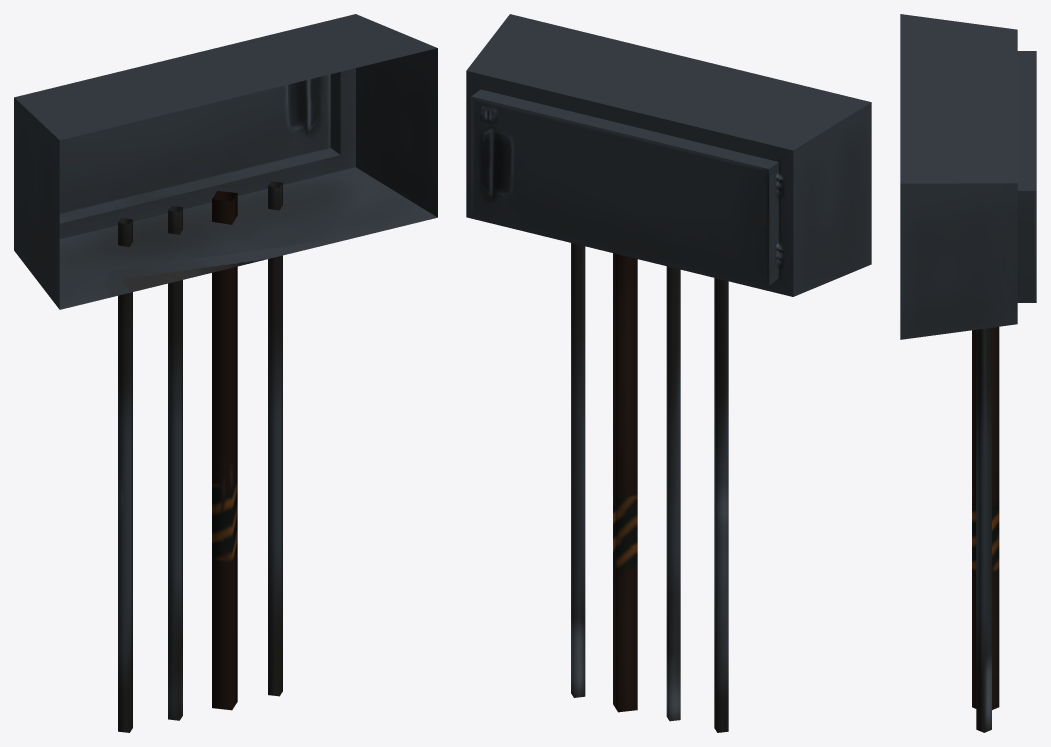
The model's file is ElectricBox.FBX.
The picture shows the model from 3 angles, left to right: view 1: azimuth 30°, elevation 25°; view 2: azimuth 150°, elevation 25°; view 3: azimuth 270°, elevation 25°; orthographic projection. The views are drawn at different scales.
Parts seen in each view (by area): view 1: WallCeilPipe_ElecBox; view 2: WallCeilPipe_ElecBox; view 3: WallCeilPipe_ElecBox.
Part boxes in pixels (left/top/right/bottom): WallCeilPipe_ElecBox: left=14, top=14, right=437, bottom=732; WallCeilPipe_ElecBox: left=466, top=14, right=871, bottom=732; WallCeilPipe_ElecBox: left=900, top=14, right=1036, bottom=732.
Size of the model in its own units: 74.45 by 122 by 25.27.
